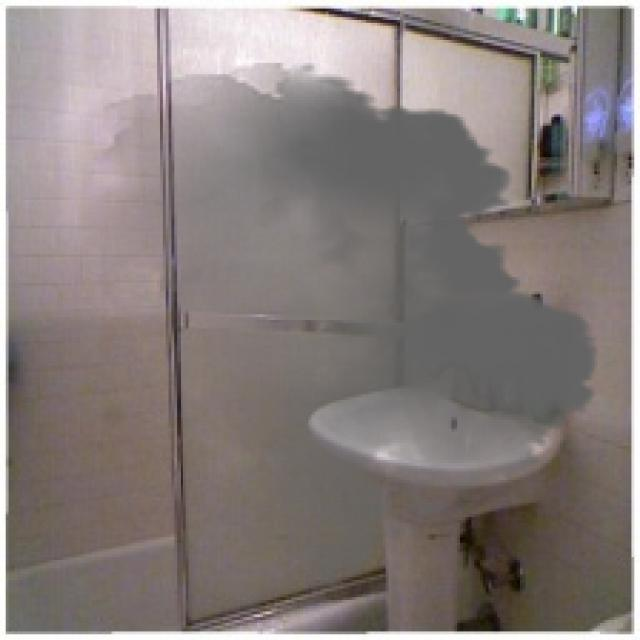smoke: (74, 63, 617, 591)
